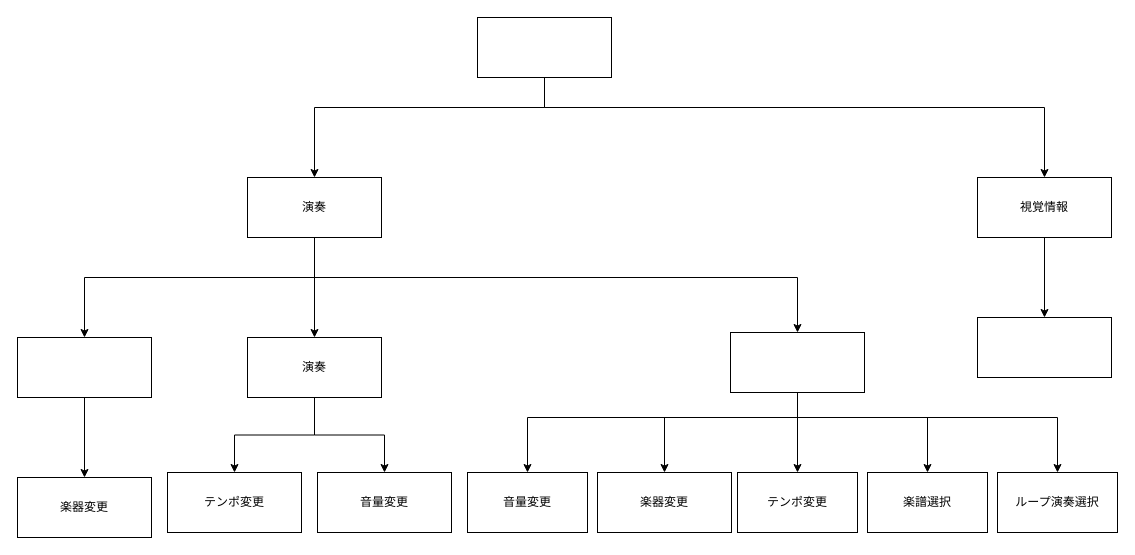
Image size: 1135x555. Some labels were removed from this diagram. Each missing label, with the centre of its shape:
LEDマトリクスでの歌詞表示: the point at 1044,347
LED同期演奏システム: the point at 544,47
webサイト: the point at 797,362
演奏前制御: the point at 84,367
